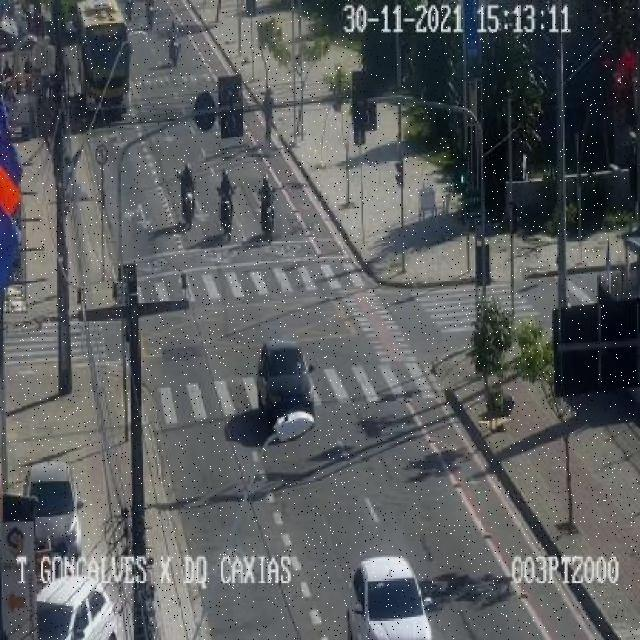Bus: (72, 1, 135, 118)
Car: (348, 554, 430, 637), (256, 340, 317, 441), (23, 462, 81, 564), (36, 576, 124, 638)
Cycle: (260, 199, 274, 239), (219, 198, 234, 233), (183, 195, 195, 229)
